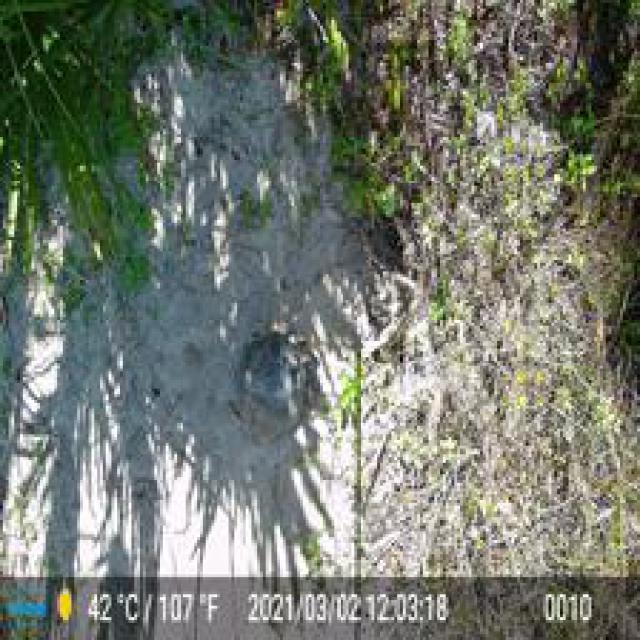tortoise: (229, 332, 317, 437)
